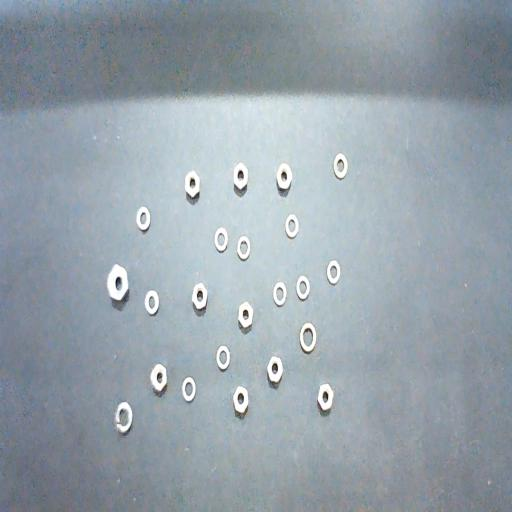nut: (107, 264, 129, 307), (150, 364, 167, 396), (233, 386, 249, 418), (238, 302, 254, 334), (276, 163, 292, 195), (318, 384, 334, 415), (267, 356, 283, 387), (192, 282, 207, 314), (234, 162, 248, 195), (186, 171, 200, 203)
washer: (114, 402, 132, 433), (300, 322, 317, 352), (144, 291, 160, 314), (182, 377, 196, 402), (216, 345, 230, 370), (136, 206, 150, 231), (237, 235, 251, 260), (334, 154, 348, 179), (296, 276, 310, 300), (273, 282, 287, 306), (214, 227, 228, 251), (285, 214, 299, 238), (327, 260, 340, 284)
